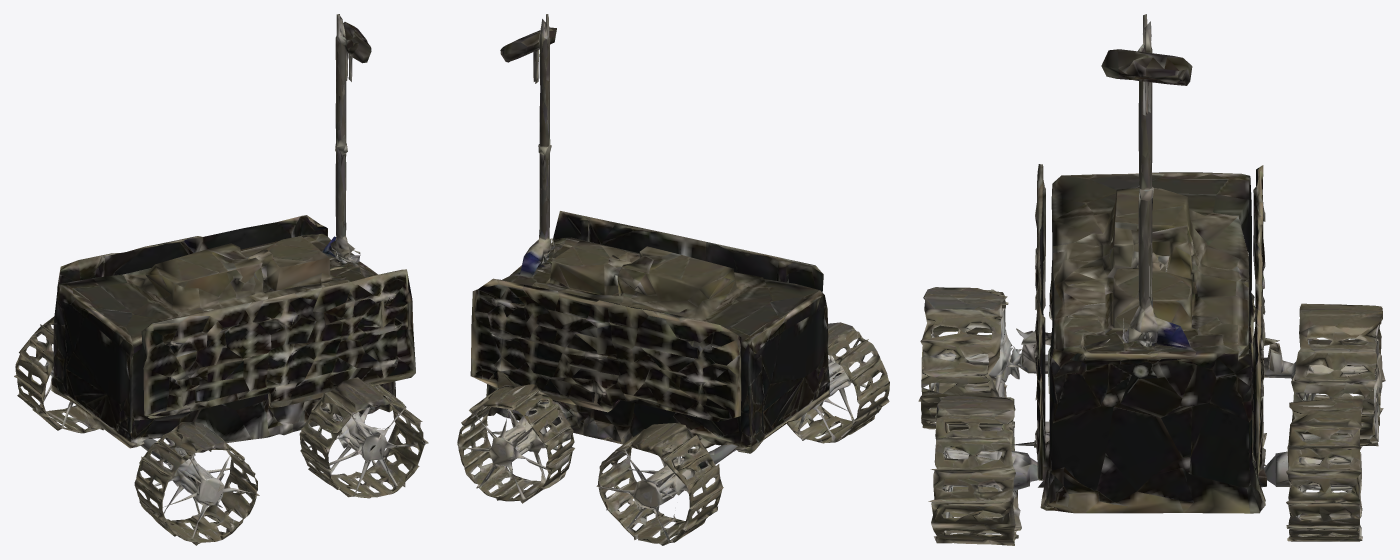
The model's file is magpie-low.glb.
3 views of the same model, side by side, from view 1: azimuth 30°, elevation 25°; view 2: azimuth 150°, elevation 25°; view 3: azimuth 270°, elevation 25° (orthographic). The views are drawn at different scales.
Bounding box in the file's own units: 1.42 × 1.9 × 1.48.
Materials: 1 (1 with a texture image).
